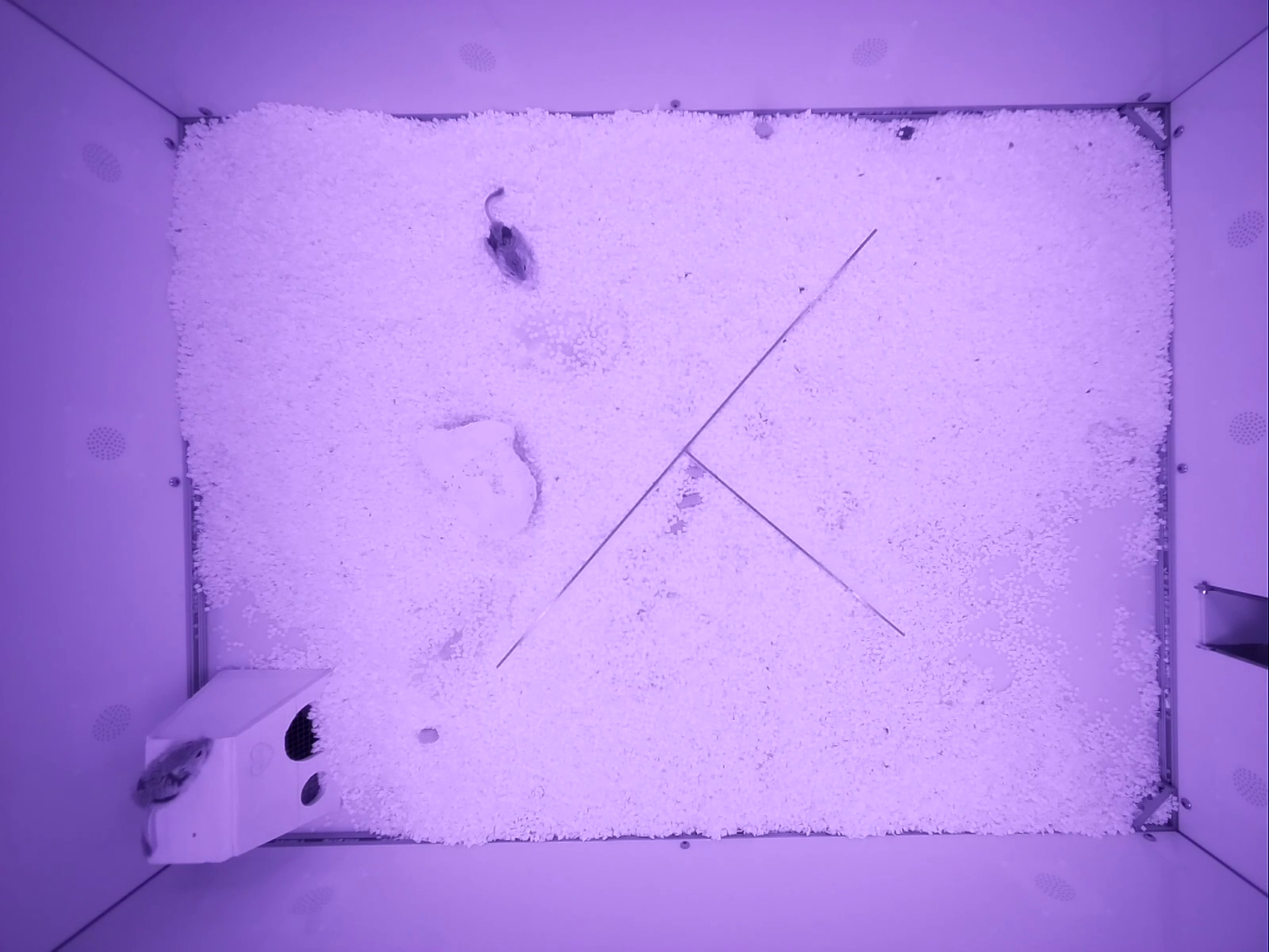adult_back: (133, 738, 211, 856), (485, 186, 531, 281)
